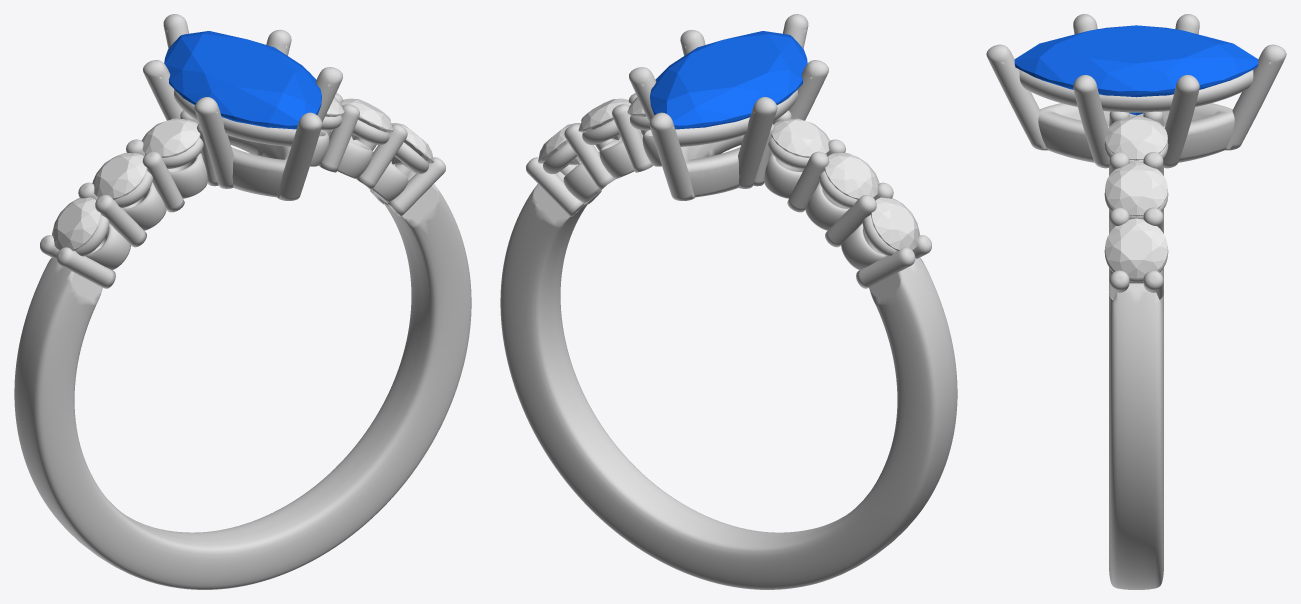
Rendered from bluesapphire-marquise-platinum-6prong-straightband-7stone.glb.
The picture shows the model from 3 angles, left to right: view 1: azimuth 30°, elevation 25°; view 2: azimuth 150°, elevation 25°; view 3: azimuth 270°, elevation 25°; orthographic projection.
Visible parts, largest first — view 1: metal.001, stone.001, side.001, side.008, side.009, side.011, side.010; view 2: metal.001, stone.001, side.001, side.008, side.009, side.011, side.010; view 3: metal.001, stone.001, side.010, side.011, side.012.
Boxes of the visible parts, bbox=[...] form: metal.001: bbox=[14, 14, 471, 589]; stone.001: bbox=[164, 31, 321, 129]; side.001: bbox=[52, 197, 100, 250]; side.008: bbox=[92, 153, 147, 199]; side.009: bbox=[141, 118, 200, 157]; side.011: bbox=[341, 98, 393, 140]; side.010: bbox=[391, 123, 433, 164]; metal.001: bbox=[500, 14, 957, 589]; stone.001: bbox=[650, 31, 807, 129]; side.001: bbox=[871, 197, 919, 250]; side.008: bbox=[824, 153, 879, 199]; side.009: bbox=[771, 118, 830, 157]; side.011: bbox=[578, 98, 630, 140]; side.010: bbox=[538, 123, 580, 164]; metal.001: bbox=[986, 14, 1286, 589]; stone.001: bbox=[1014, 25, 1258, 115]; side.010: bbox=[1105, 218, 1167, 278]; side.011: bbox=[1105, 162, 1167, 216]; side.012: bbox=[1105, 116, 1167, 160].
Size of the model in its own units: 20.5 by 22.93 by 11.96.
